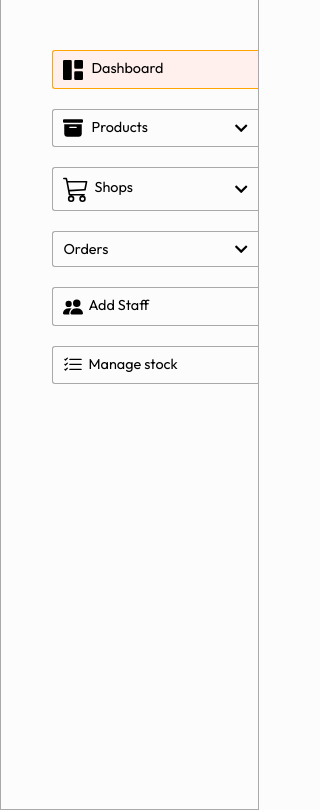
Test: Sidebar Component › toggles products dropdown for admin
The width and height of the screenshot is (320, 810).
Click the text "Products" at [106, 128], box x1=63 y1=118 x2=148 y2=138
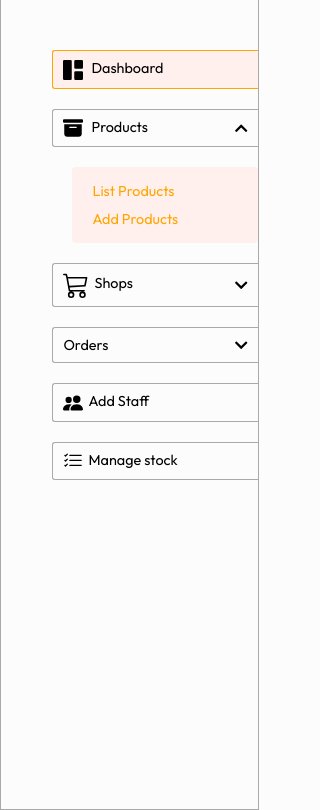
Expected: the text "List Products" is shown, x1=92 y1=182 x2=174 y2=200
Expected: the text "Add Products" is shown, x1=92 y1=210 x2=178 y2=228
